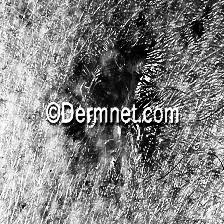Benign Marking or Mole: (79, 47, 147, 104)
